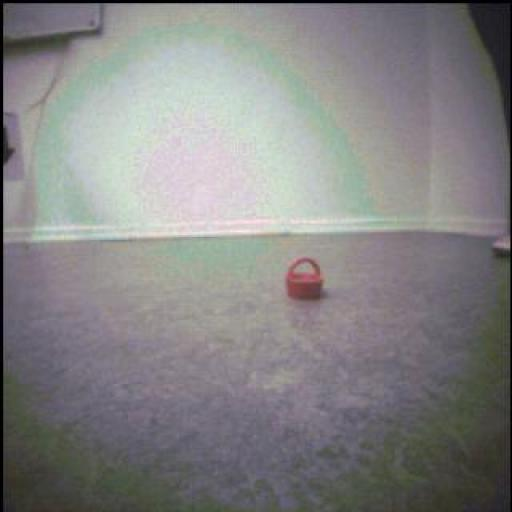Arrow: (5, 127, 16, 166)
Bucket: (288, 259, 325, 300)
